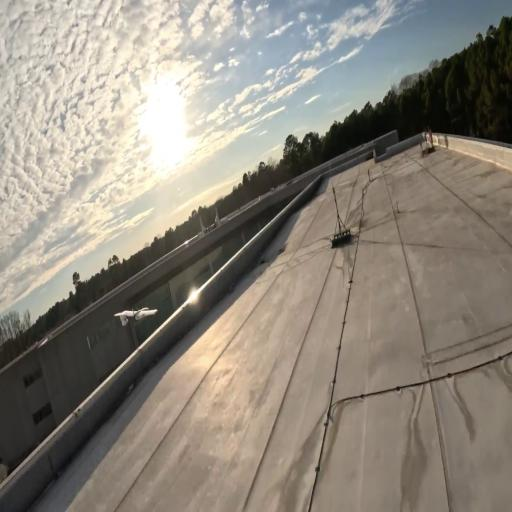uav: (112, 304, 160, 328)
